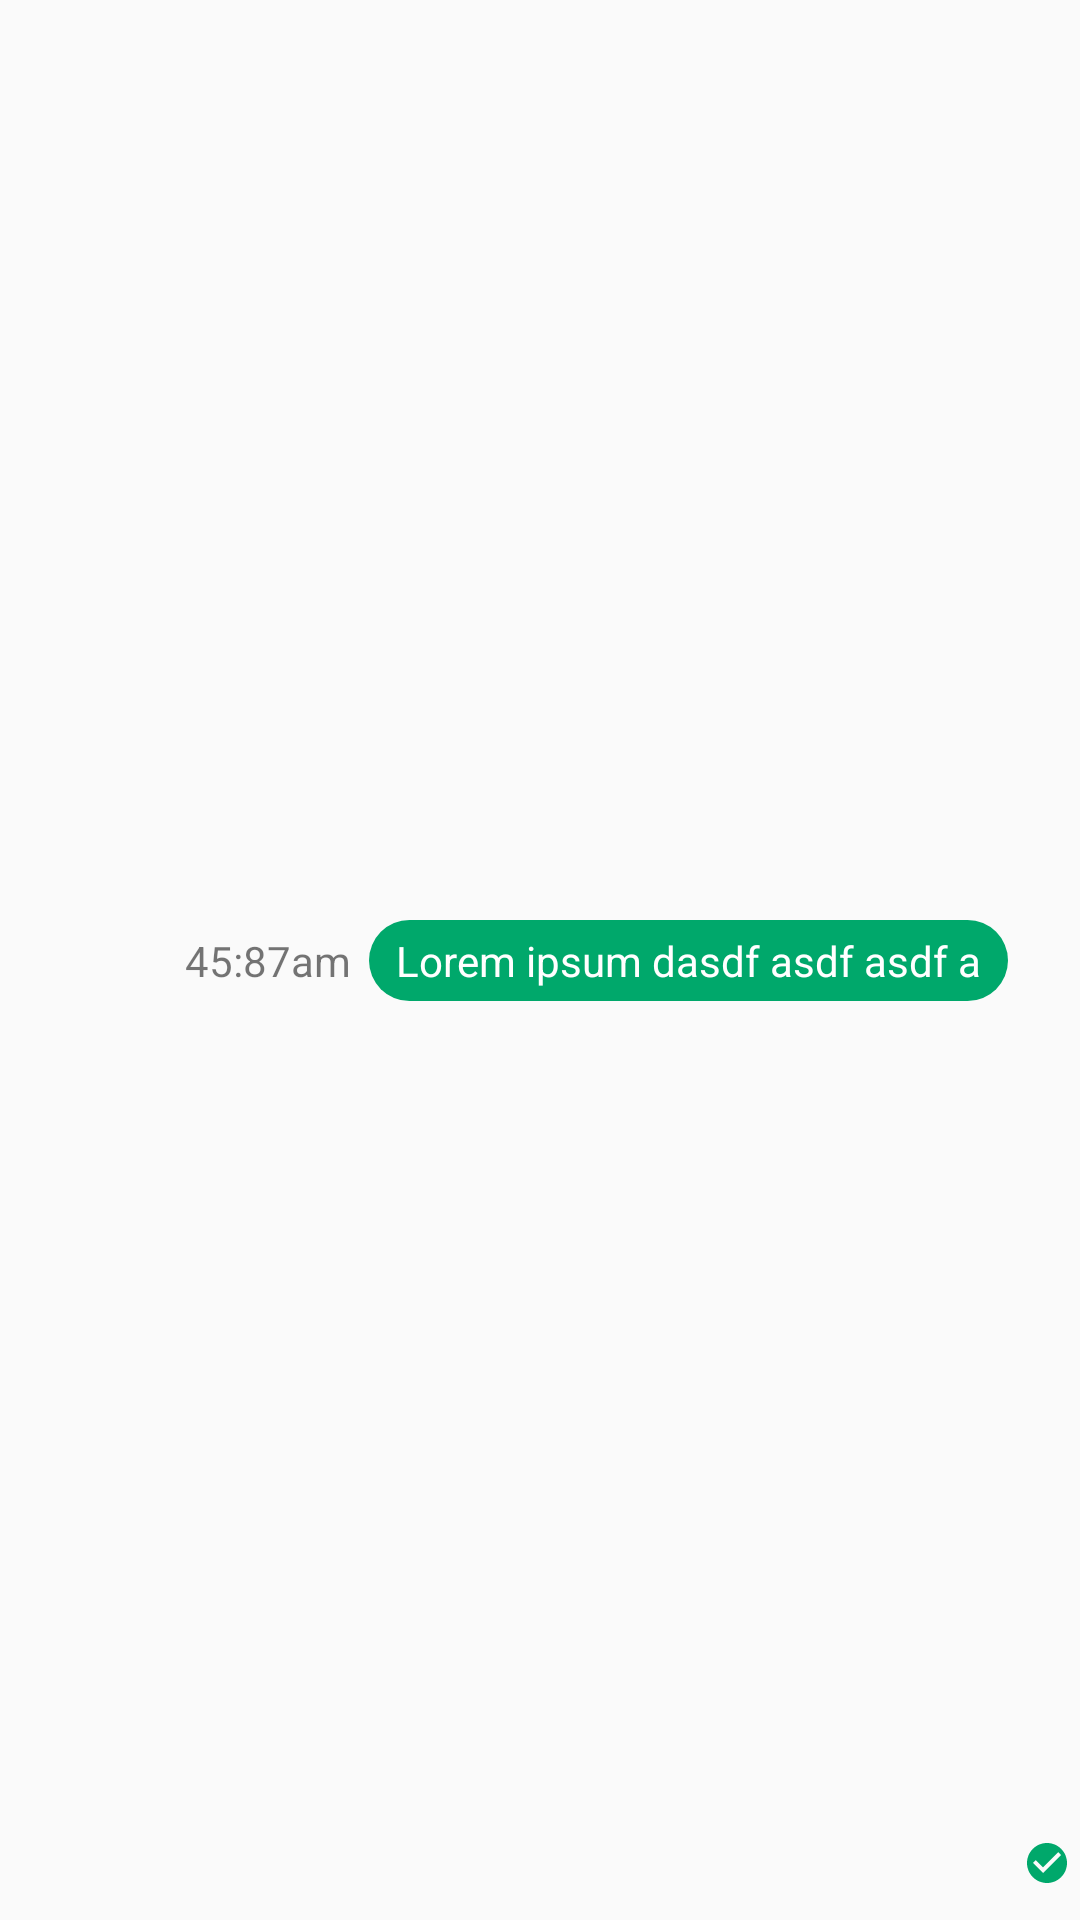

Named icons in this screenshot (1080 × 1920) and their bounding boxes, [x1, y1, x2, y2]:
check: [1027, 1843, 1067, 1883]
